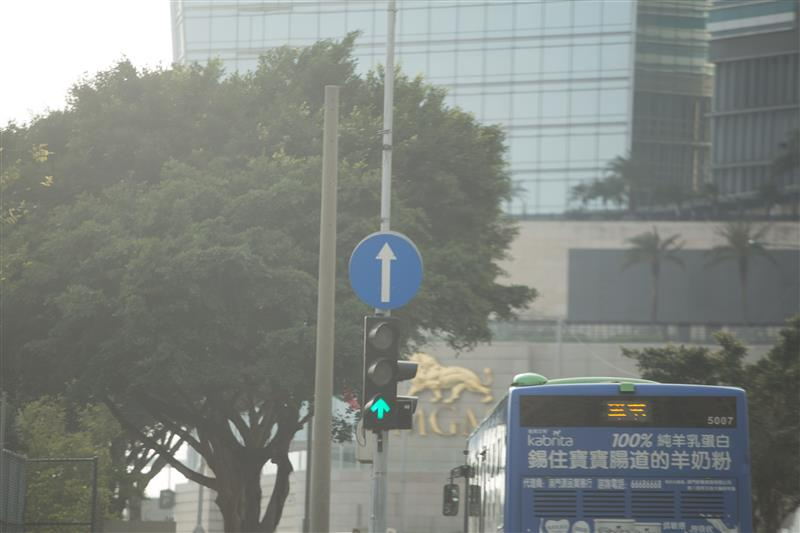straightOnly: (349, 232, 420, 304)
